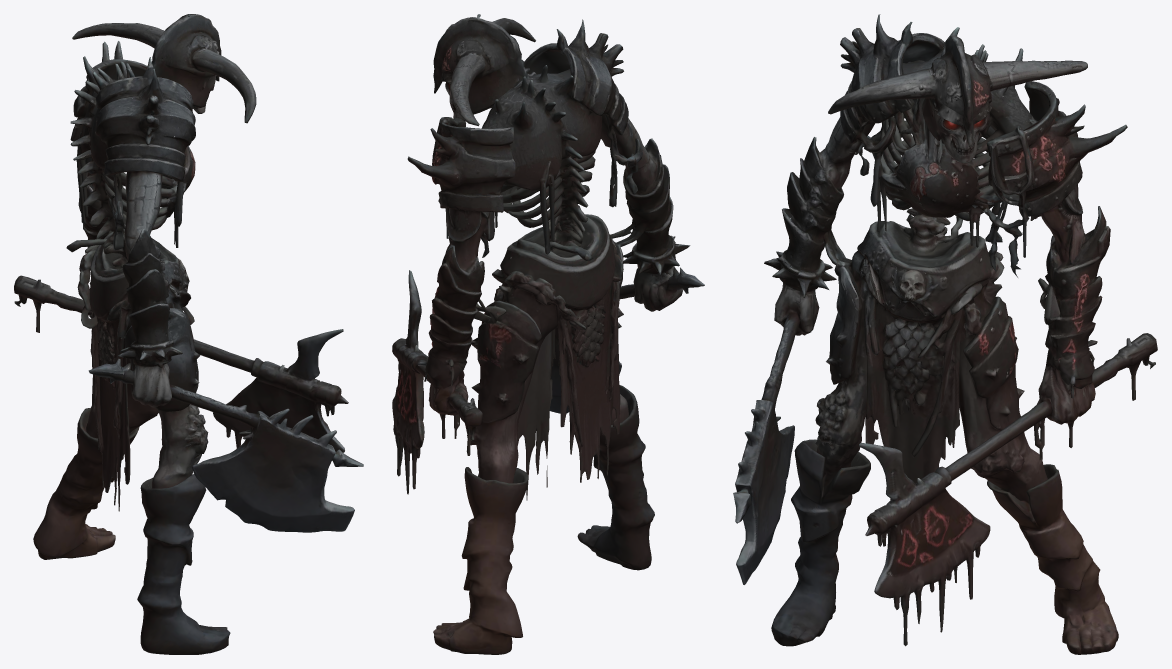
File: dreugh-model.glb
3 renders of one model, left to right at view 1: azimuth 30°, elevation 25°; view 2: azimuth 150°, elevation 25°; view 3: azimuth 270°, elevation 25°, orthographic. The views are drawn at different scales.
Visible parts, largest first — view 1: tripo_node_76a291fa-37d9-47ce-93e2-aa3bbcc1f7db; view 2: tripo_node_76a291fa-37d9-47ce-93e2-aa3bbcc1f7db; view 3: tripo_node_76a291fa-37d9-47ce-93e2-aa3bbcc1f7db.
Part boxes in pixels (left/top/right/bottom): tripo_node_76a291fa-37d9-47ce-93e2-aa3bbcc1f7db: left=14, top=14, right=363, bottom=654; tripo_node_76a291fa-37d9-47ce-93e2-aa3bbcc1f7db: left=392, top=14, right=704, bottom=654; tripo_node_76a291fa-37d9-47ce-93e2-aa3bbcc1f7db: left=733, top=14, right=1157, bottom=654.
Bounding box in the file's own units: 0.5224 × 1 × 0.6105.
Materials: 1 (1 with a texture image).
